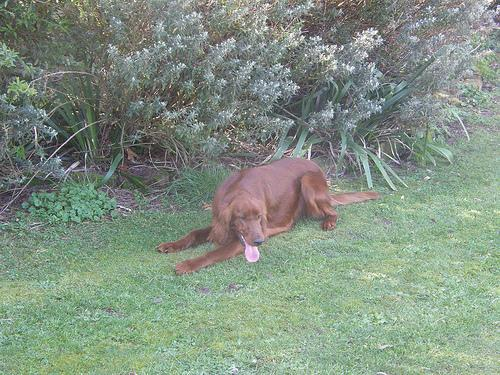Irish_setter: (156, 155, 384, 277)
